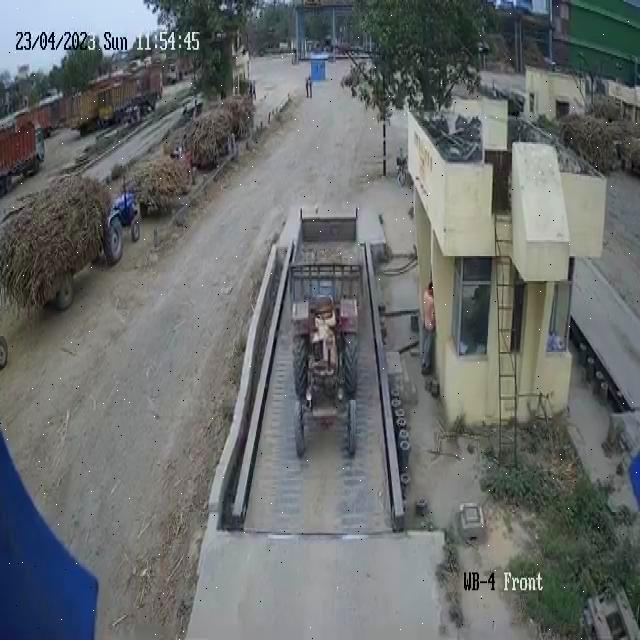Tratores - v5 YOLO V8L 2024-11-13: (294, 292, 370, 472), (98, 186, 146, 262)
